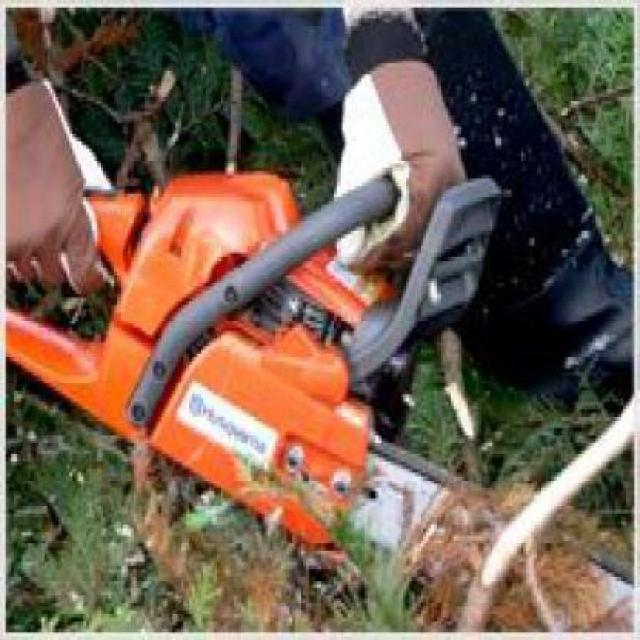Chainsaw: (2, 171, 630, 632)
